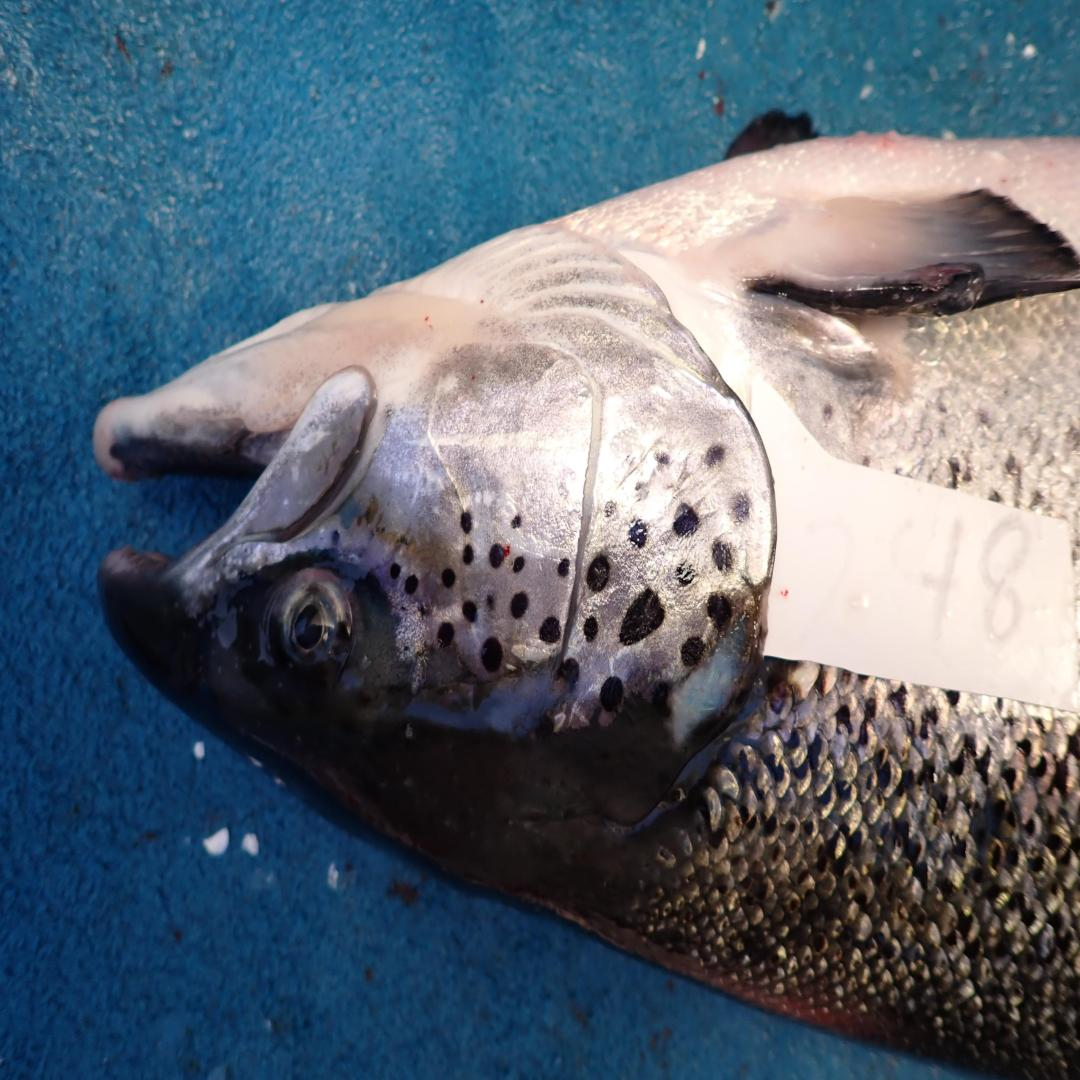spot: (620, 588, 664, 644), (707, 593, 732, 630), (599, 675, 624, 712), (673, 503, 698, 537), (481, 636, 504, 672), (586, 557, 610, 591), (681, 636, 705, 667), (555, 658, 580, 686), (711, 540, 732, 571), (538, 616, 561, 644), (732, 495, 751, 523), (629, 520, 648, 548), (510, 591, 529, 619), (489, 543, 510, 568), (705, 444, 726, 467), (675, 562, 696, 585), (437, 622, 456, 647), (582, 616, 599, 641), (462, 599, 477, 622), (654, 450, 673, 467), (635, 482, 650, 502), (441, 568, 456, 588), (460, 512, 472, 534), (557, 557, 570, 577), (405, 574, 418, 593), (462, 546, 475, 565), (603, 501, 616, 518), (485, 591, 496, 610), (513, 557, 525, 574), (390, 562, 401, 579), (510, 515, 523, 529), (420, 605, 430, 616), (332, 530, 340, 543)
